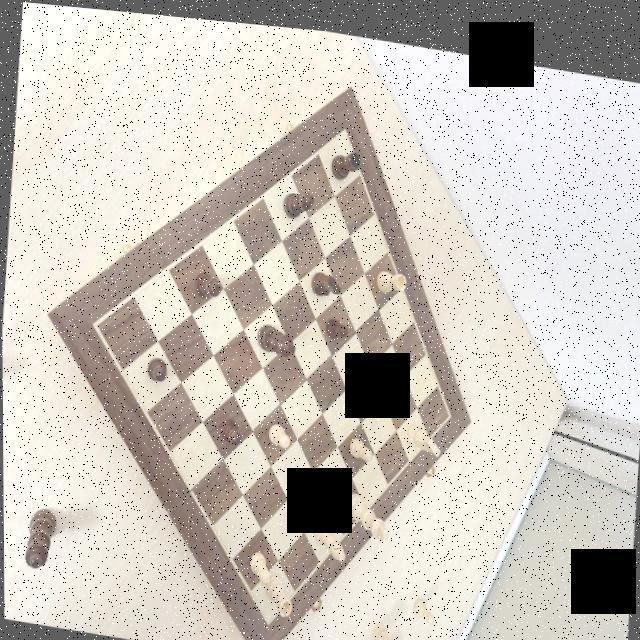chess-table-corners: (87, 314, 99, 332), (338, 115, 348, 132), (261, 606, 270, 624), (441, 398, 451, 413)
